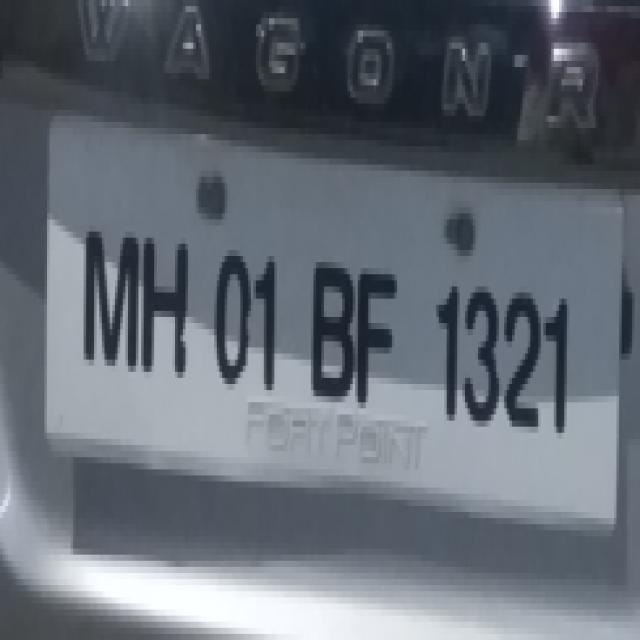0: (214, 236, 254, 394)
1: (540, 284, 574, 444), (428, 272, 462, 427), (250, 256, 282, 395)
3: (464, 276, 504, 430)
B: (307, 242, 358, 410)
F: (353, 262, 401, 418)
H: (138, 226, 196, 377)
M: (80, 213, 142, 379)
